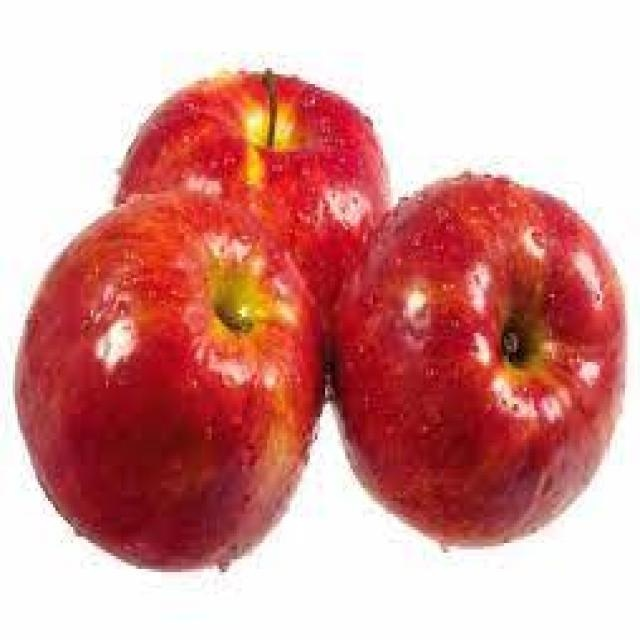agrume: (0, 158, 324, 594), (314, 142, 631, 586), (92, 59, 415, 444)
